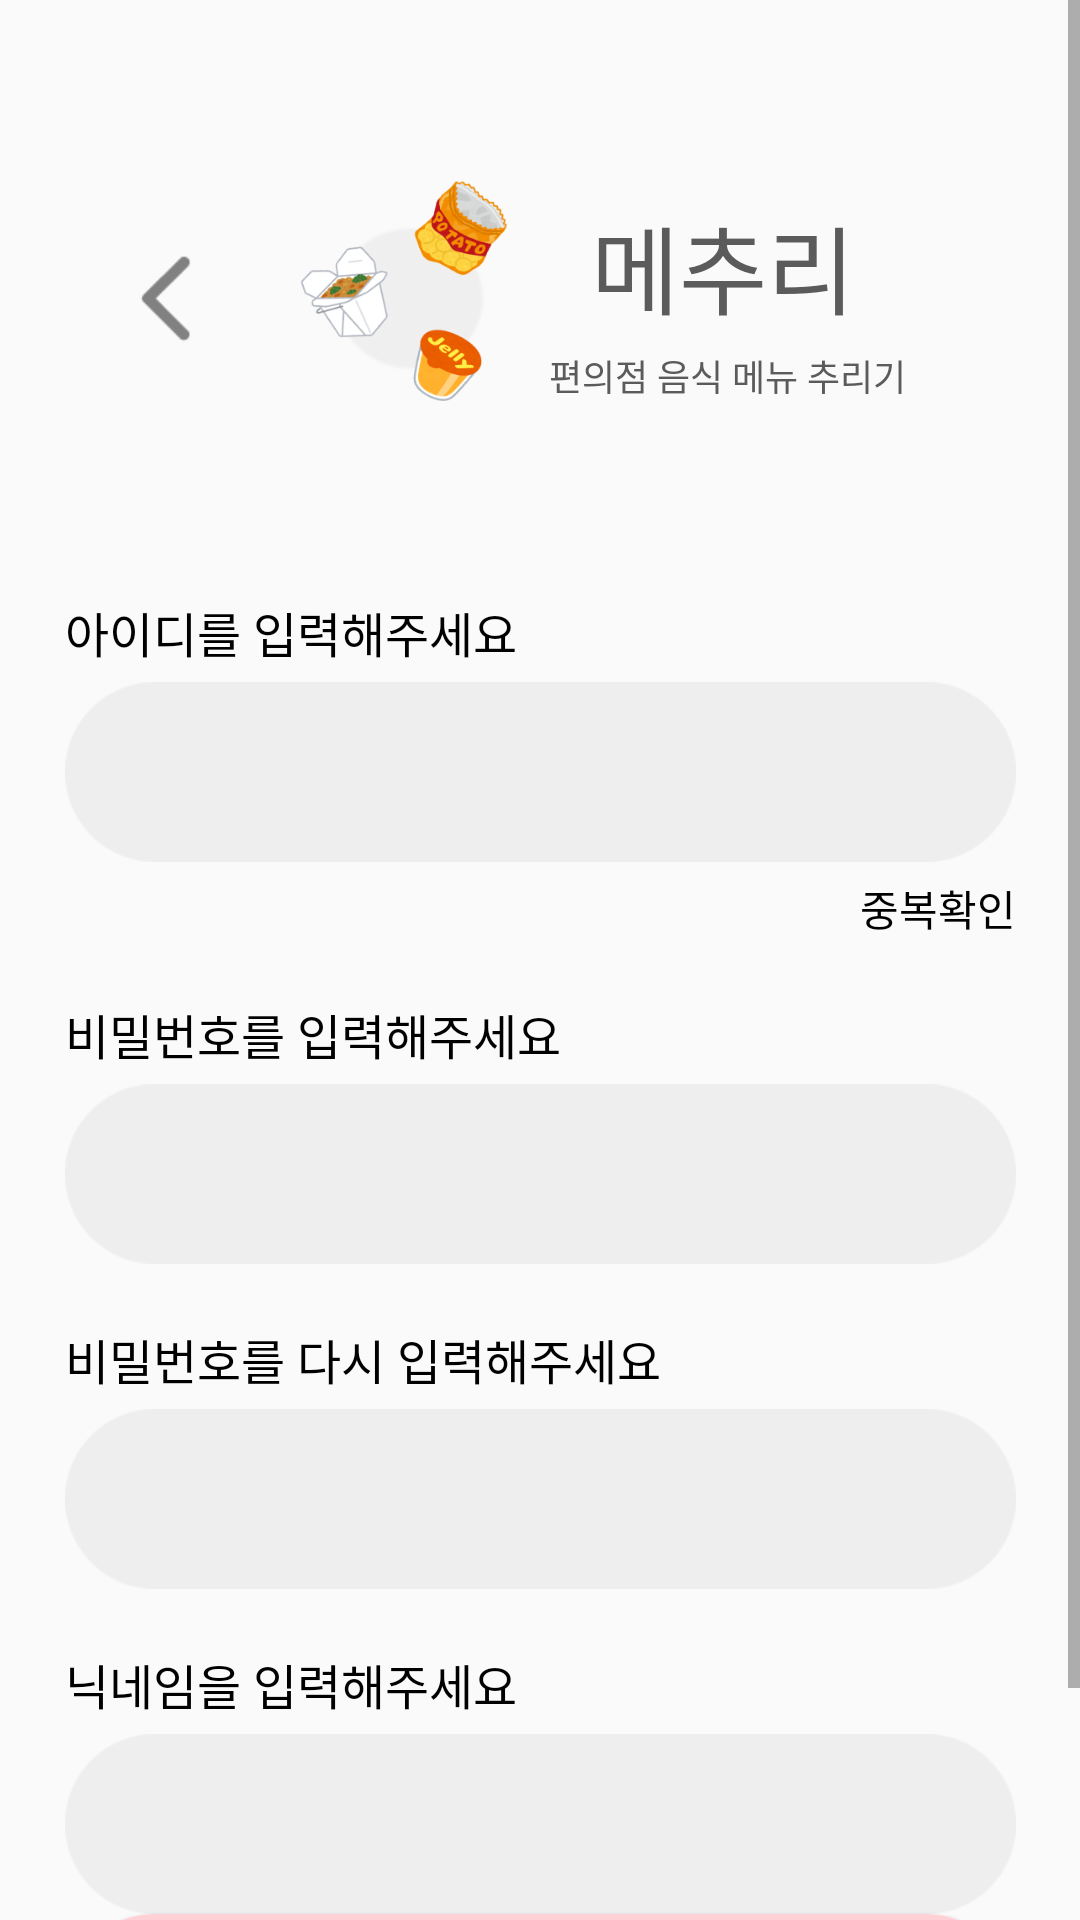

Named icons in this screenshot (1080w x 1920h) and their centers, (x=x, y=y):
backpressbtn: (x=166, y=298)
mainicon: (x=404, y=291)
